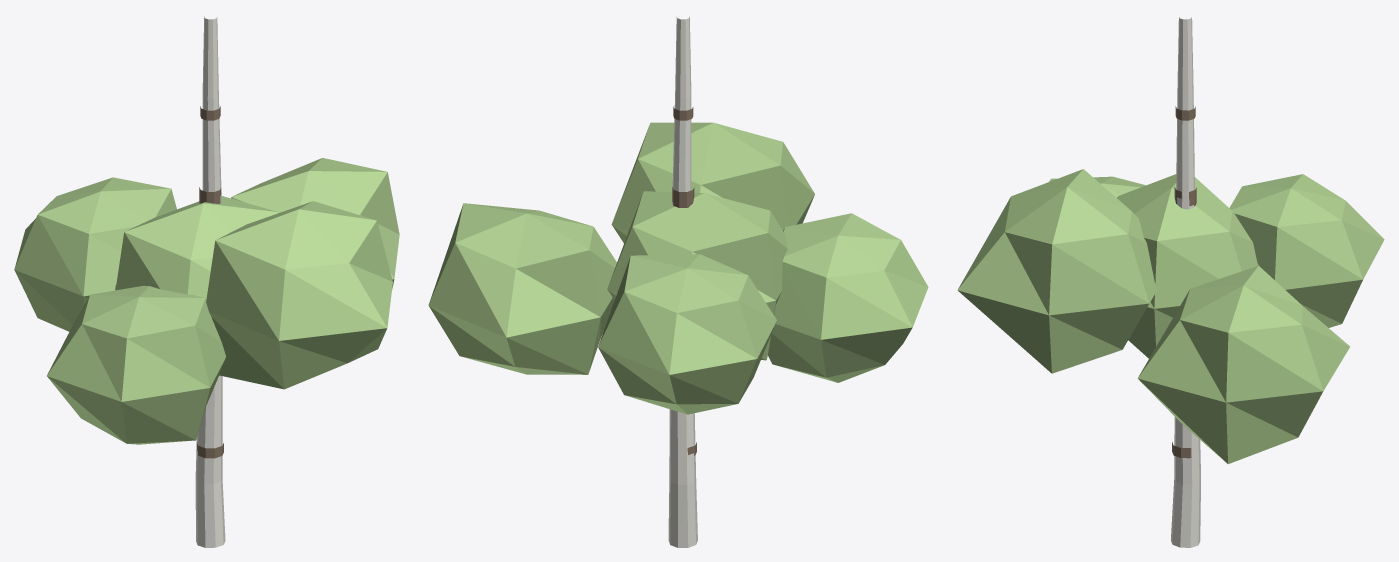
Rendered from nature_birch_young.glb.
3 views of the same model, side by side, from view 1: azimuth 30°, elevation 25°; view 2: azimuth 150°, elevation 25°; view 3: azimuth 270°, elevation 25° (orthographic).
Parts seen in each view (by area): view 1: world; view 2: world; view 3: world.
Boxes of the visible parts, x1,y1,x2,y2 form: world: (14, 16, 399, 547); world: (428, 16, 928, 547); world: (957, 17, 1384, 547).
Size of the model in its own units: 1.62 by 2 by 1.47.
